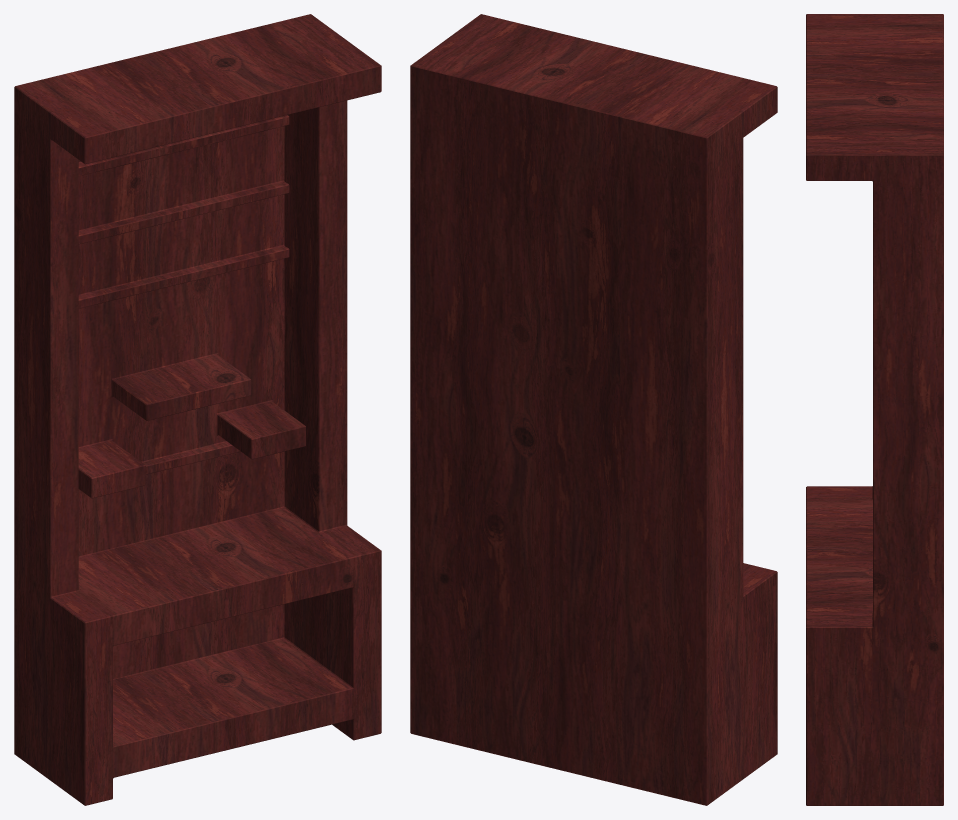
File: cupboard.glb
The picture shows the model from 3 angles, left to right: view 1: azimuth 30°, elevation 25°; view 2: azimuth 150°, elevation 25°; view 3: azimuth 270°, elevation 25°; orthographic projection. The views are drawn at different scales.
Visible parts, largest first — view 1: cupboard_exp; view 2: cupboard_exp; view 3: cupboard_exp.
Boxes of the visible parts, x1,y1,x2,y2 form: cupboard_exp: (14, 14, 381, 805); cupboard_exp: (410, 14, 777, 805); cupboard_exp: (806, 14, 943, 805).
Bounding box in the file's own units: 1.25 × 2.69 × 0.515.
Materials: 1 (1 with a texture image).
